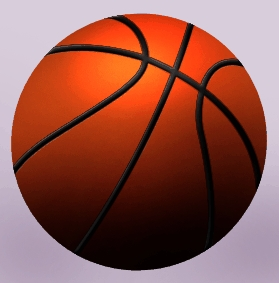basketball: (11, 14, 267, 271)
